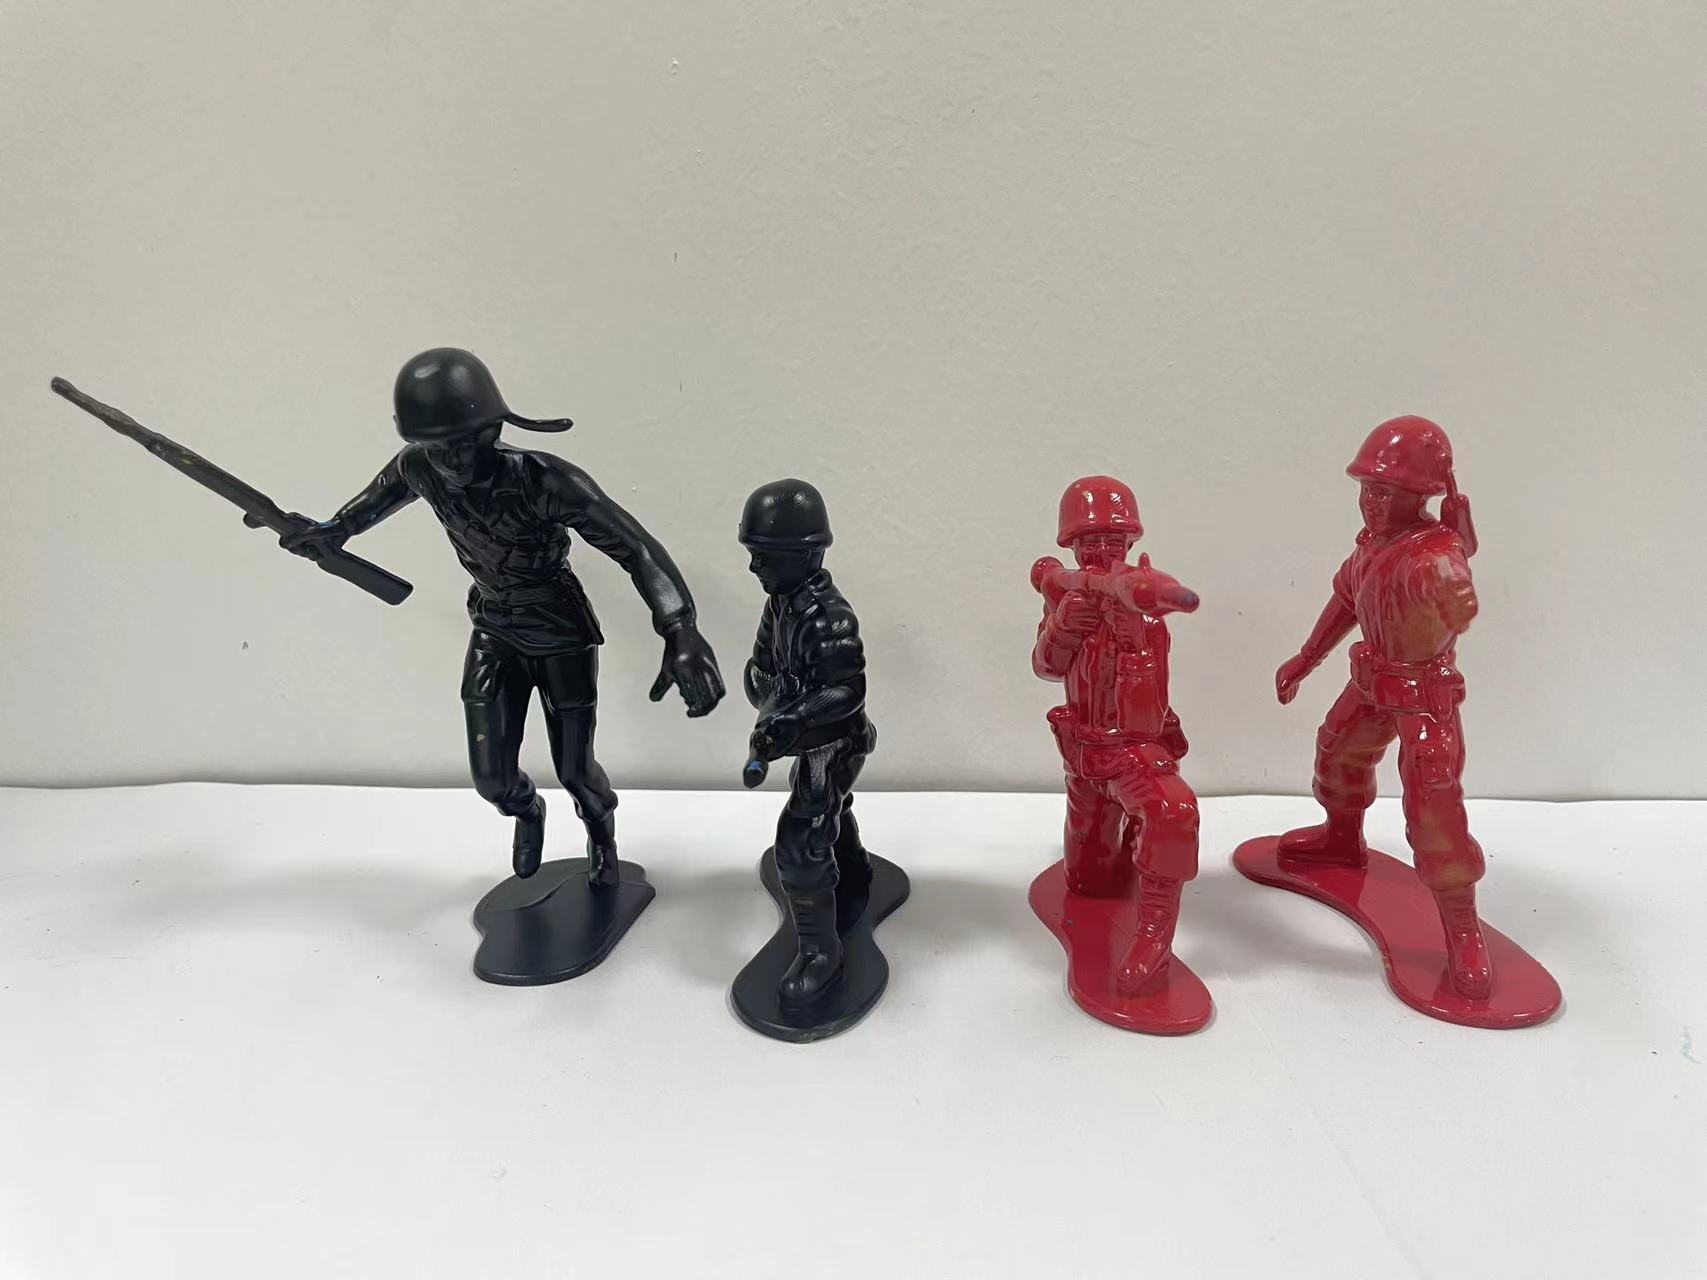black: (19, 298, 724, 1041), (724, 448, 964, 1098)
red: (1242, 401, 1653, 1111), (991, 442, 1227, 1065)
